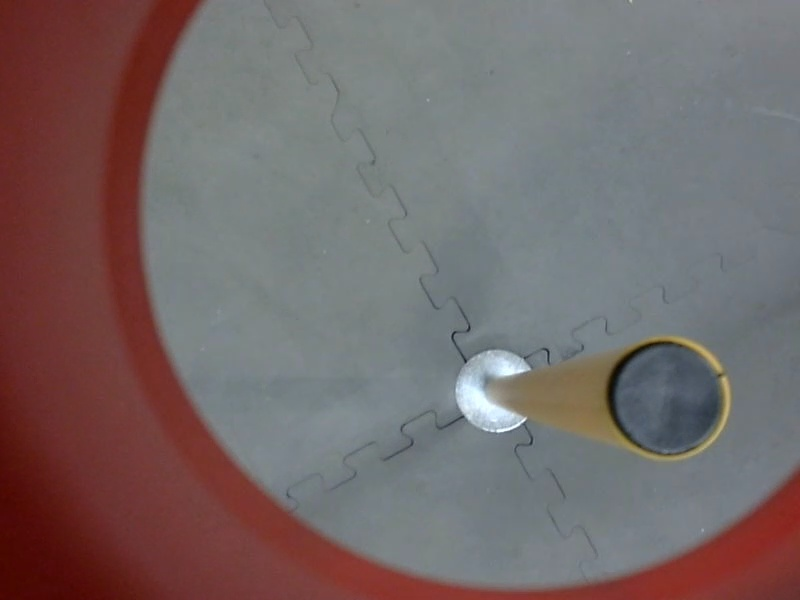tip: (593, 326, 735, 470)
